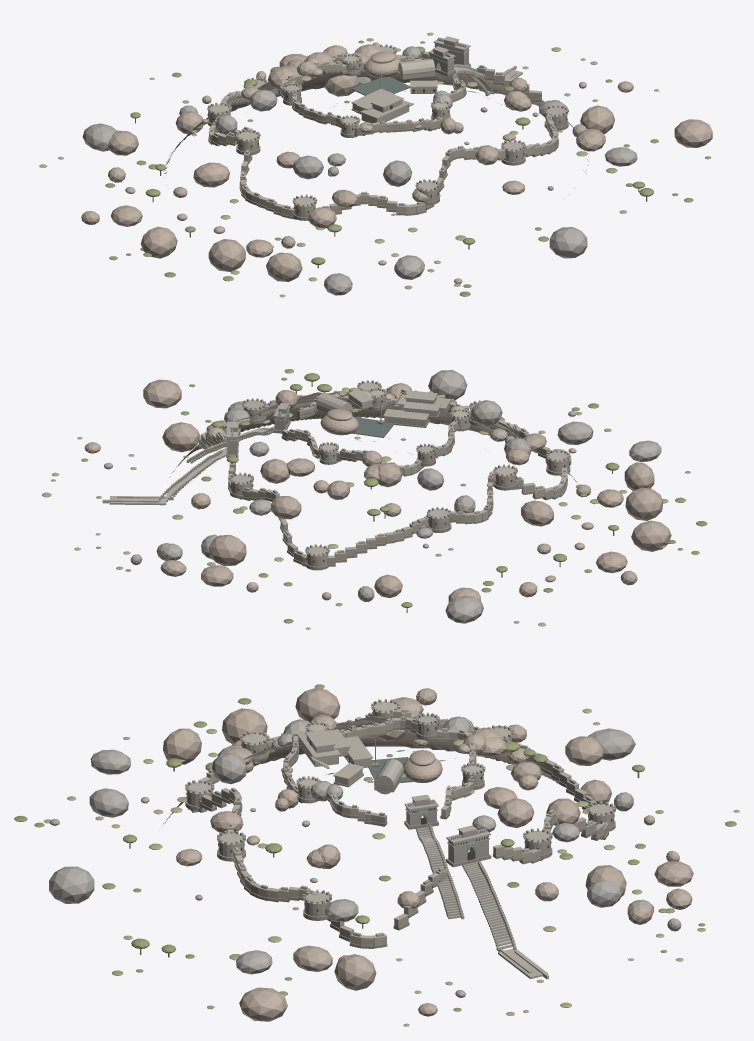
File: ballari-fort2.glb
3 views of the same model, one above another, from view 1: azimuth 30°, elevation 25°; view 2: azimuth 150°, elevation 25°; view 3: azimuth 270°, elevation 25° (orthographic). The views are drawn at different scales.
Parts seen in each view (by area): view 1: fort_AE927C, fort_B6AA95, fort_9B9389, fort_A39680, fort_7E7362, fort_6E7D42, hill_terrain, fort_92965C, fort_3B4A44, fort_938E85; view 2: fort_AE927C, fort_B6AA95, fort_9B9389, fort_A39680, fort_7E7362, fort_6E7D42, hill_terrain, fort_B2A998, fort_92965C, fort_3B4A44; view 3: fort_AE927C, fort_B6AA95, fort_9B9389, fort_A39680, fort_7E7362, fort_B2A998, fort_6E7D42, hill_terrain, fort_92965C, fort_938E85, fort_A8A399.
Boxes of the visible parts, x1,y1,x2,y2 form: fort_AE927C: (81, 44, 712, 281); fort_B6AA95: (207, 36, 568, 211); fort_9B9389: (82, 42, 637, 295); fort_A39680: (209, 40, 567, 217); fort_7E7362: (207, 59, 568, 220); fort_6E7D42: (105, 40, 711, 296); hill_terrain: (163, 57, 589, 194); fort_92965C: (39, 32, 659, 297); fort_3B4A44: (352, 76, 410, 95); fort_938E85: (429, 43, 468, 72); fort_AE927C: (84, 379, 671, 602); fort_B6AA95: (102, 380, 570, 558); fort_9B9389: (104, 370, 661, 623); fort_A39680: (199, 393, 569, 566); fort_7E7362: (198, 398, 570, 570); fort_6E7D42: (81, 369, 707, 623); hill_terrain: (169, 392, 577, 483); fort_B2A998: (109, 394, 402, 505); fort_92965C: (42, 387, 690, 629); fort_3B4A44: (351, 417, 394, 437); fort_AE927C: (141, 687, 693, 1021); fort_B6AA95: (185, 699, 615, 979); fort_9B9389: (49, 716, 681, 997); fort_A39680: (187, 711, 614, 946); fort_7E7362: (185, 722, 615, 948); fort_B2A998: (310, 756, 547, 978); fort_6E7D42: (14, 684, 736, 1011); hill_terrain: (163, 716, 558, 823); fort_92965C: (43, 708, 739, 1026); fort_938E85: (406, 807, 488, 863); fort_A8A399: (375, 739, 490, 852).
Size of the model in its own units: 484 by 84.66 by 434.
